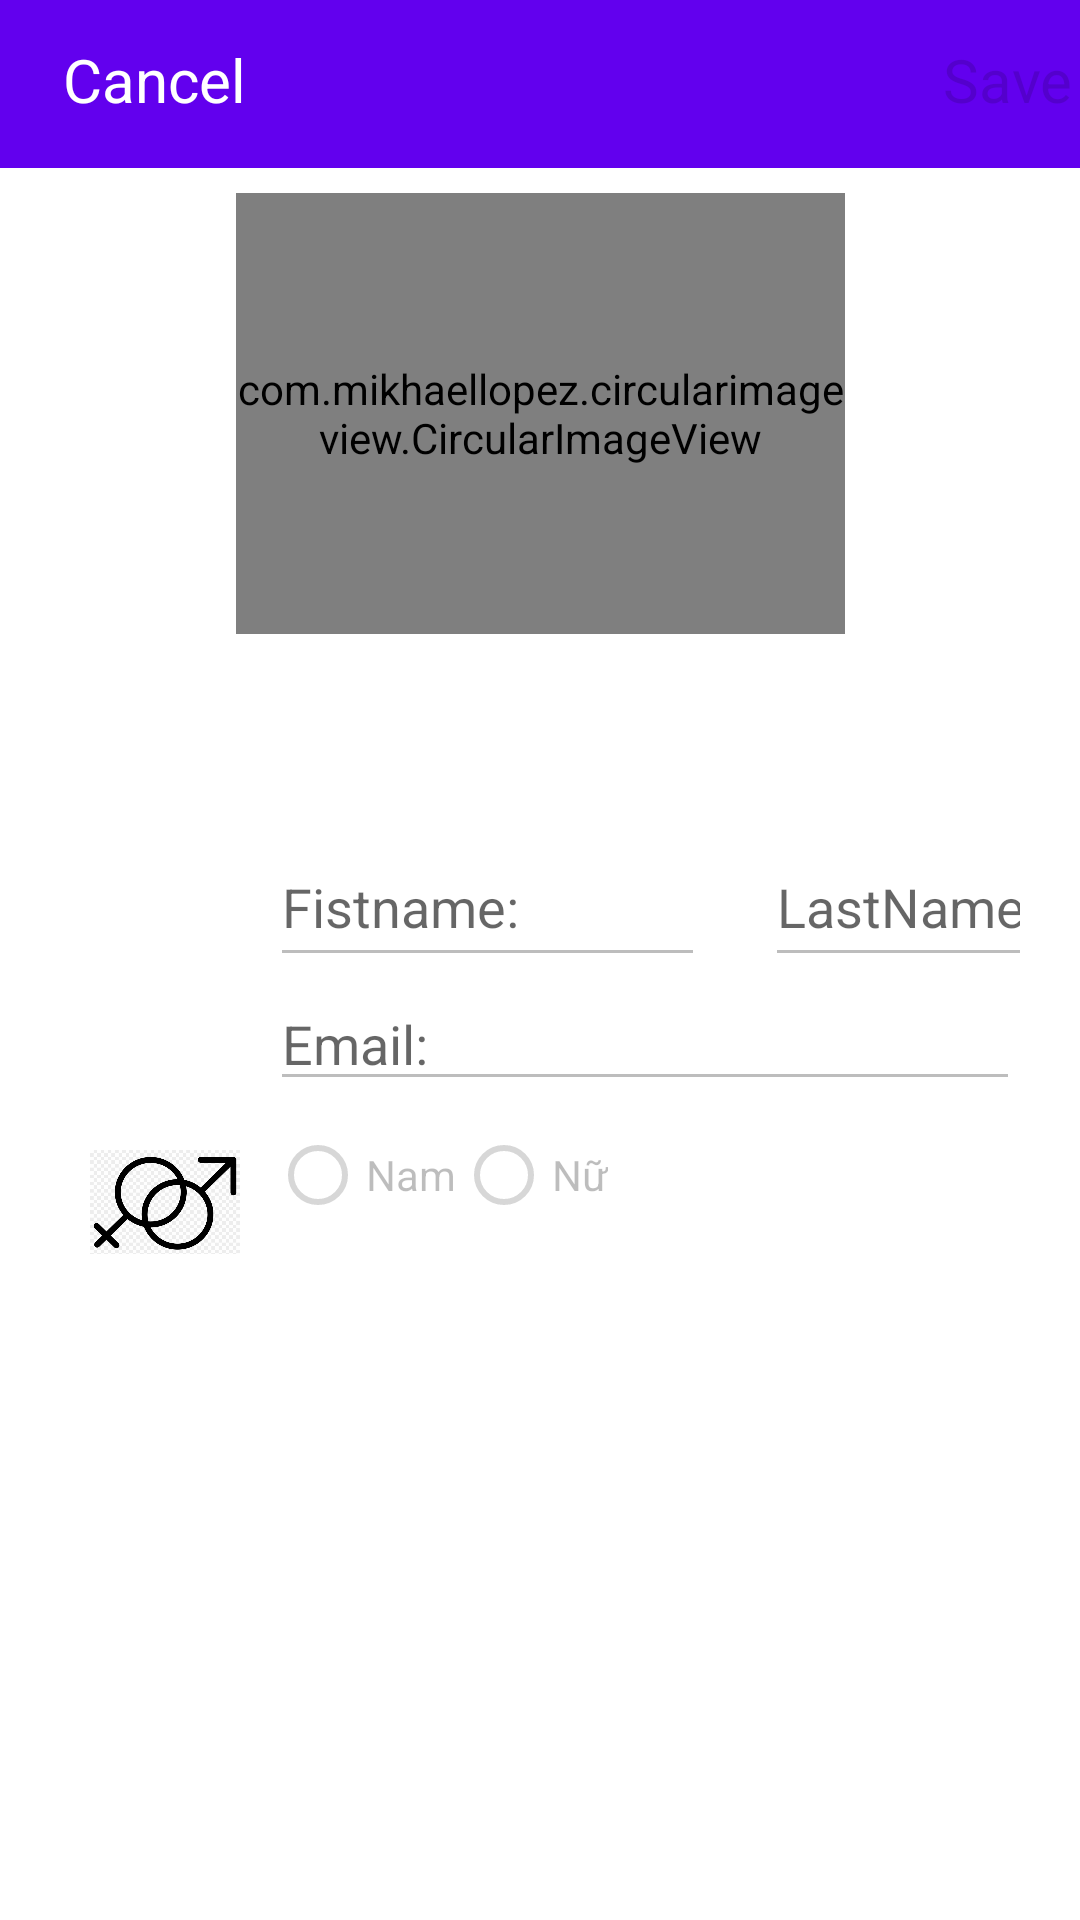

Where to tap for icons on this 1080*1920 app screen, as (x,y):
sex: (165,1203)
